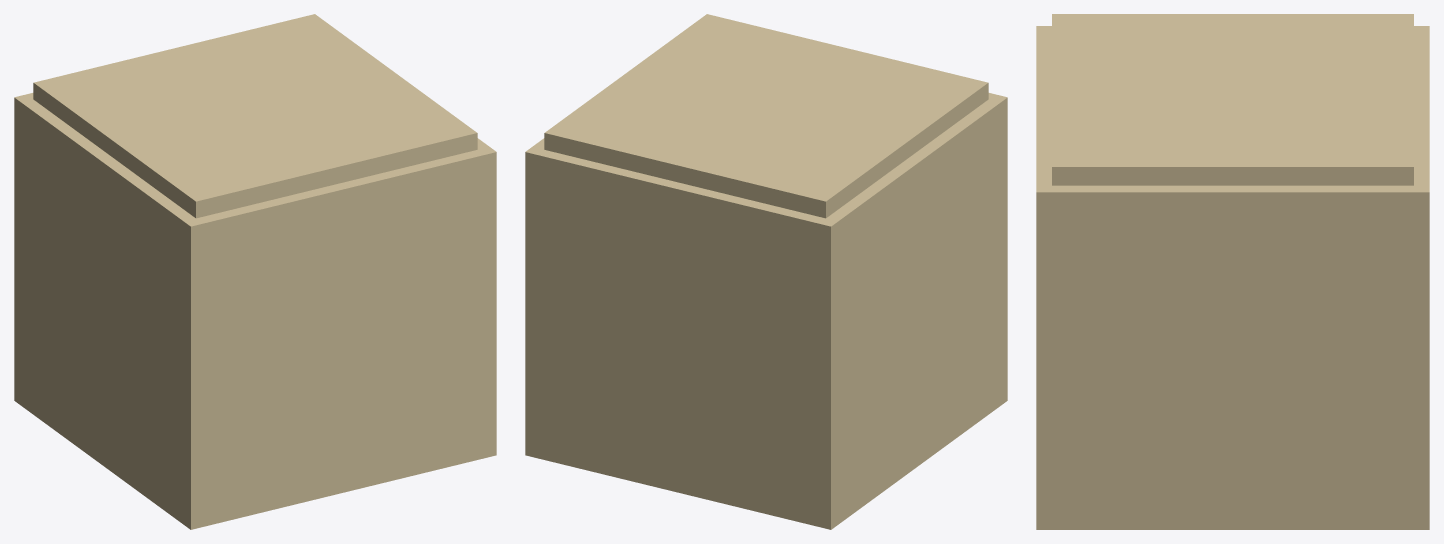
The model's file is ground.glb.
3 views of the same model, side by side, from view 1: azimuth 30°, elevation 25°; view 2: azimuth 150°, elevation 25°; view 3: azimuth 270°, elevation 25° (orthographic). The views are drawn at different scales.
Parts seen in each view (by area): view 1: module.ground; view 2: module.ground; view 3: module.ground.
Boxes of the visible parts, <box> form: module.ground: <box>14,14,496,529</box>; module.ground: <box>525,14,1007,529</box>; module.ground: <box>1036,14,1429,529</box>.
Size of the model in its own units: 1 by 1 by 1.
